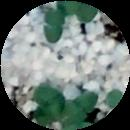Basil: (60, 93, 99, 119), (35, 86, 63, 118), (58, 0, 96, 22), (44, 8, 58, 44)
